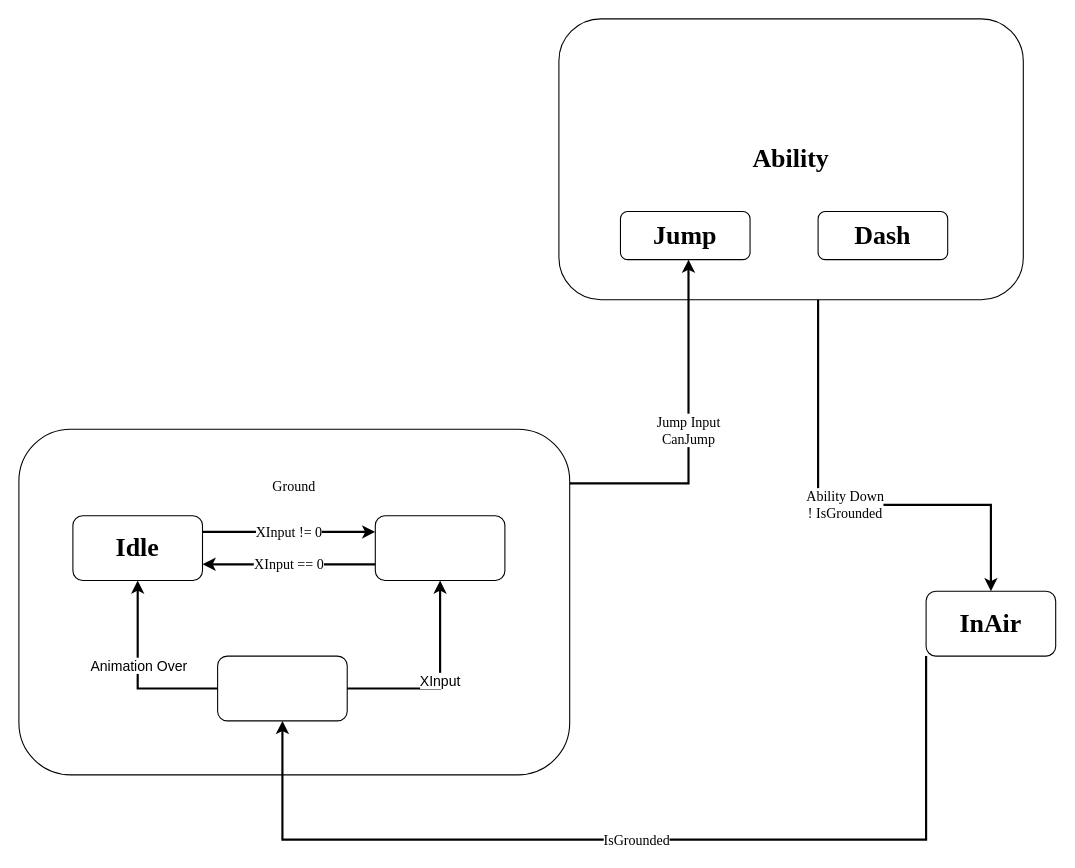
Some shapes in this 1075 by 868 pixel diagram are drawn without their labels. The centre of each missing label's shape, as x and y in pixels:
Land: pixel 282 688
Move: pixel 439 547
